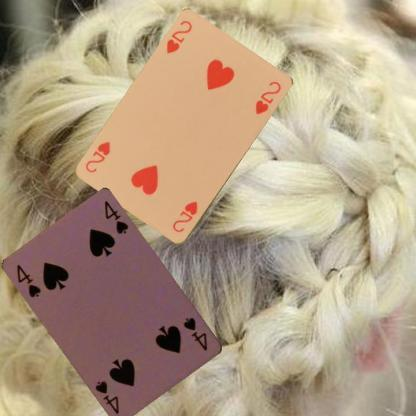2h: (164, 18, 193, 56), (170, 199, 199, 234)
4s: (181, 314, 210, 352), (14, 262, 43, 300)
